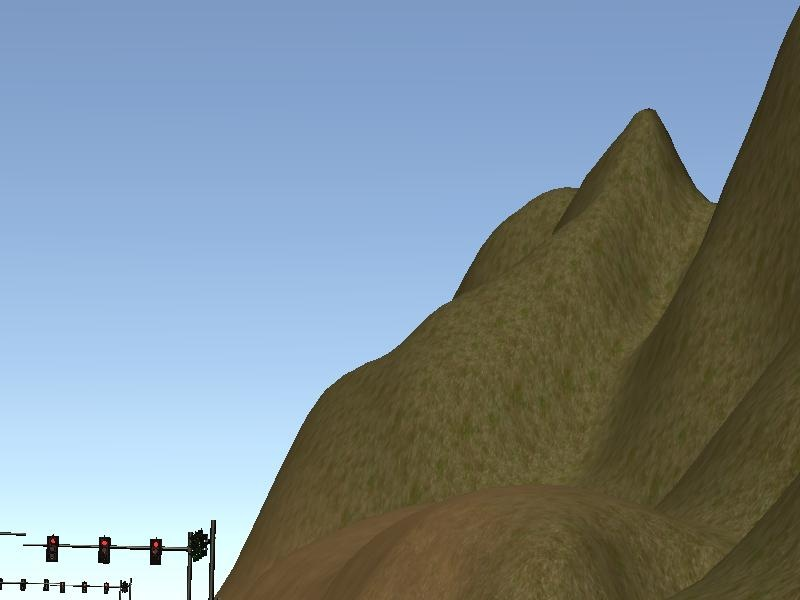traffic_light_red: (26, 532, 189, 566)
